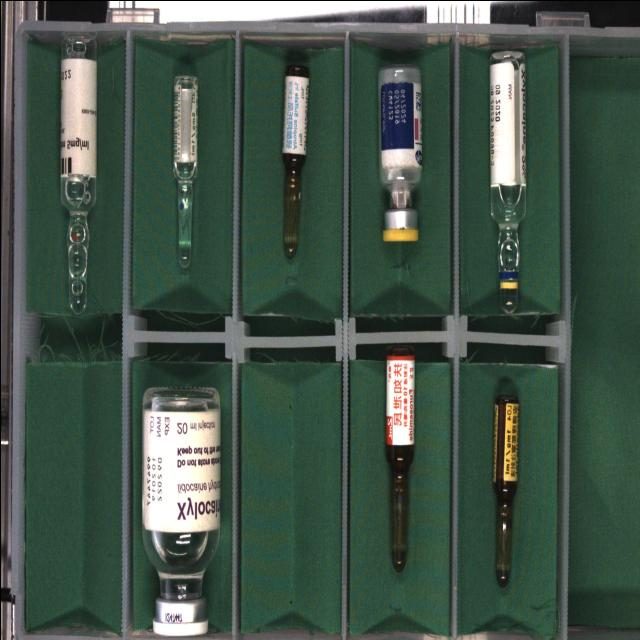Vials: (141, 387, 219, 635), (377, 64, 421, 242)
